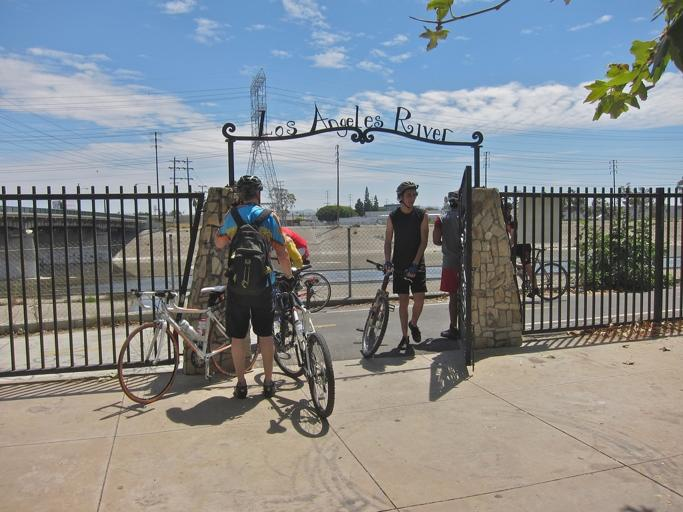non-vehicle: (118, 286, 259, 404), (272, 265, 334, 417), (356, 259, 406, 355), (271, 257, 330, 312), (515, 248, 567, 300)
